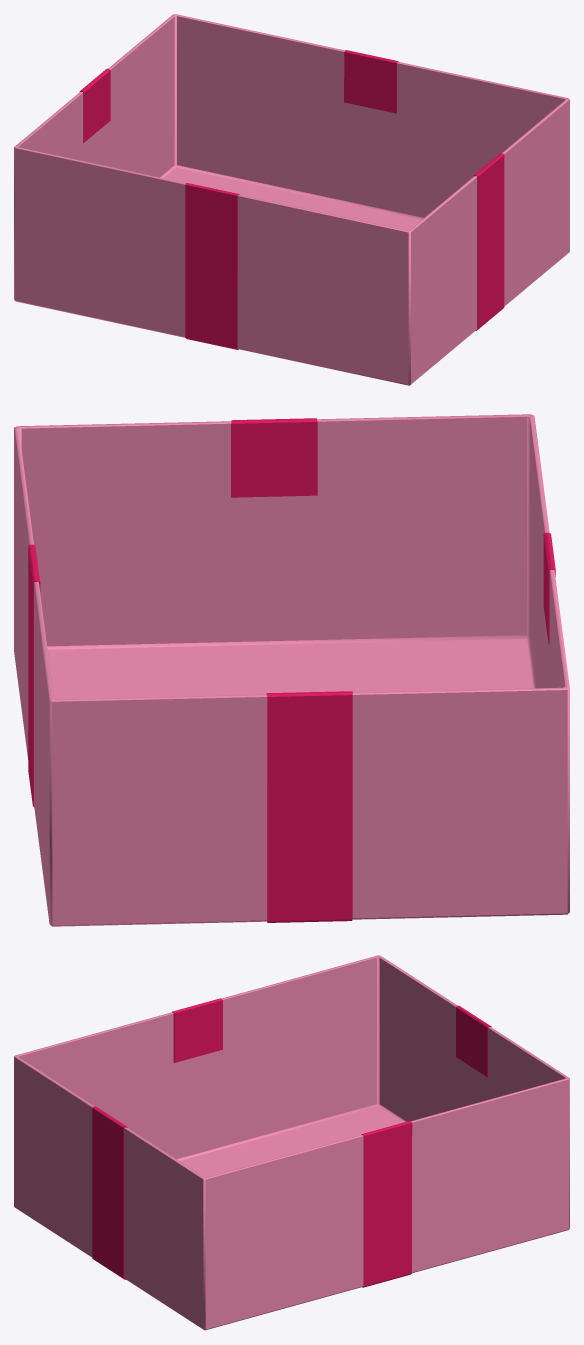
The model's file is Present3.fbx.
3 views of the same model, one above another, from view 1: azimuth 30°, elevation 25°; view 2: azimuth 150°, elevation 25°; view 3: azimuth 270°, elevation 25° (orthographic). The views are drawn at different scales.
Parts seen in each view (by area): view 1: Present3; view 2: Present3; view 3: Present3.
Part boxes in pixels (x1,y1,x2,y2): Present3: (14, 14, 569, 385); Present3: (14, 414, 569, 926); Present3: (14, 955, 569, 1330).
Bounding box in the file's own units: 0.6011 × 0.1921 × 0.6301.
